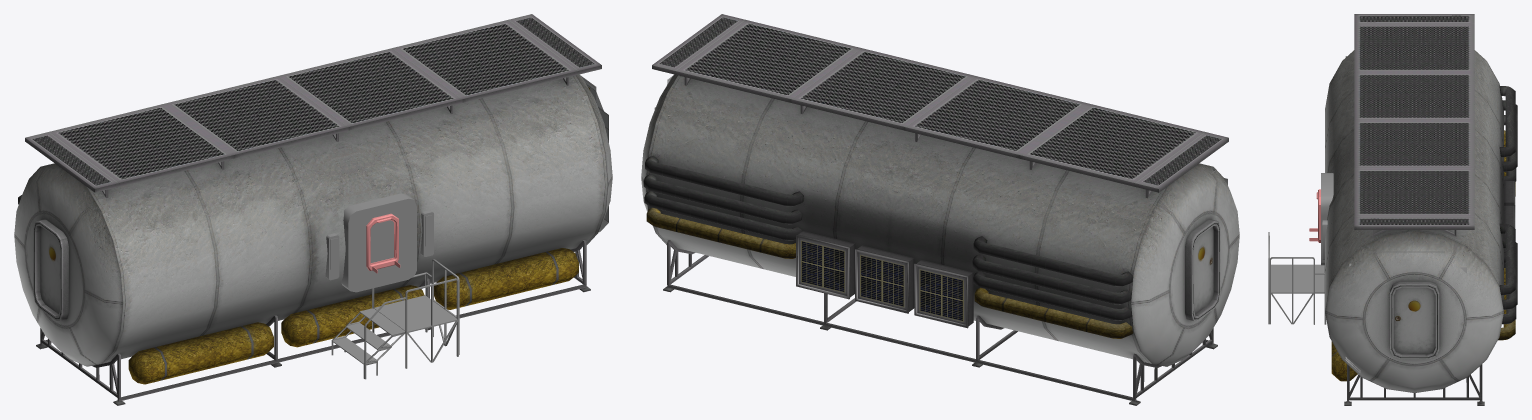
Rendered from Command center full.glb.
3 views of the same model, side by side, from view 1: azimuth 30°, elevation 25°; view 2: azimuth 150°, elevation 25°; view 3: azimuth 270°, elevation 25° (orthographic). The views are drawn at different scales.
Visible parts, largest first — view 1: CommandCenter_Exterior_SM, CommandCenterDock, commandCenter_Exterior_stairs_SM; view 2: CommandCenter_Exterior_SM; view 3: CommandCenter_Exterior_SM, commandCenter_Exterior_stairs_SM, CommandCenterDock, CC_Module.
Boxes of the visible parts, box(x1,y1,x2,y2) form: CommandCenter_Exterior_SM: box(14, 14, 612, 405); CommandCenterDock: box(325, 193, 433, 292); commandCenter_Exterior_stairs_SM: box(331, 213, 459, 379); CommandCenter_Exterior_SM: box(641, 14, 1239, 405); CommandCenter_Exterior_SM: box(1325, 14, 1517, 405); commandCenter_Exterior_stairs_SM: box(1268, 189, 1326, 324); CommandCenterDock: box(1321, 173, 1333, 265); CC_Module: box(1344, 56, 1466, 372).
Size of the model in its own units: 6.14 by 2.39 by 2.9.
Materials: 12 (7 with a texture image).
